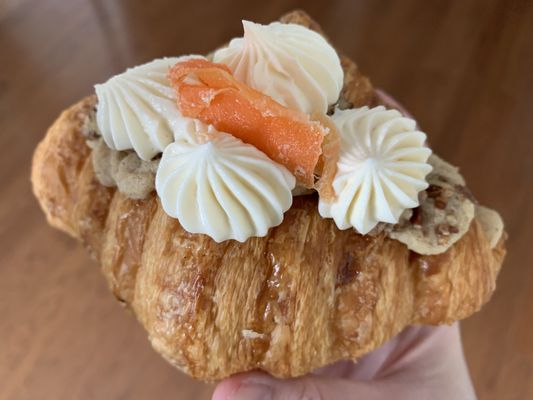pasta: (155, 132, 299, 244)
